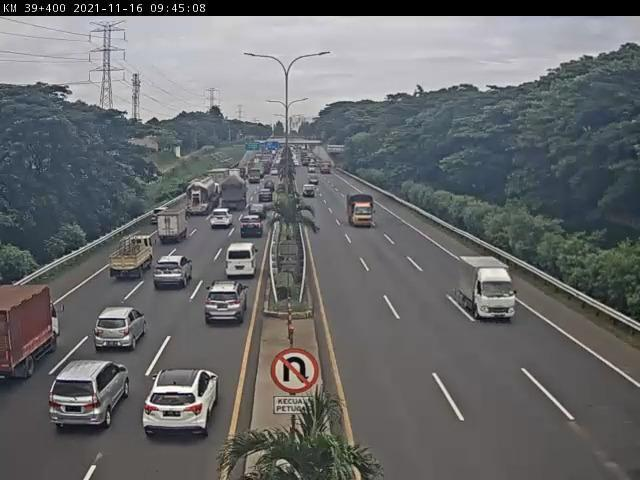car: (49, 363, 131, 429), (143, 368, 219, 435), (96, 310, 147, 349), (204, 283, 246, 328), (225, 244, 258, 279), (156, 257, 191, 286), (239, 219, 265, 241), (211, 211, 232, 232), (247, 204, 269, 222), (153, 209, 170, 226)
truck: (2, 290, 57, 388), (461, 257, 519, 322), (111, 237, 153, 282), (181, 180, 215, 218), (348, 193, 378, 230), (158, 211, 189, 243), (218, 181, 248, 214)
